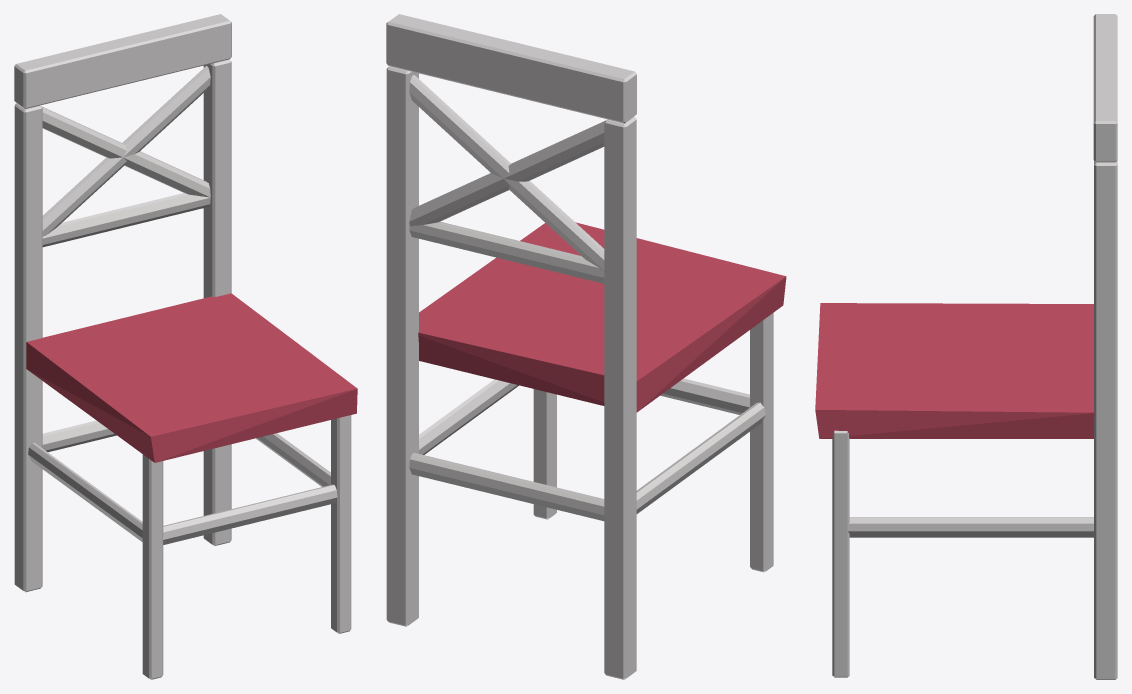
The model's file is 1_chair.fbx.
3 renders of one model, left to right at view 1: azimuth 30°, elevation 25°; view 2: azimuth 150°, elevation 25°; view 3: azimuth 270°, elevation 25°, orthographic. The views are drawn at different scales.
Parts seen in each view (by area): view 1: 1 chair; view 2: 1 chair; view 3: 1 chair.
Boxes of the visible parts, x1,y1,x2,y2 form: 1 chair: (14, 14, 357, 679); 1 chair: (386, 14, 786, 679); 1 chair: (815, 14, 1117, 679).
Bounding box in the file's own units: 22.4 × 53.28 × 26.13.
